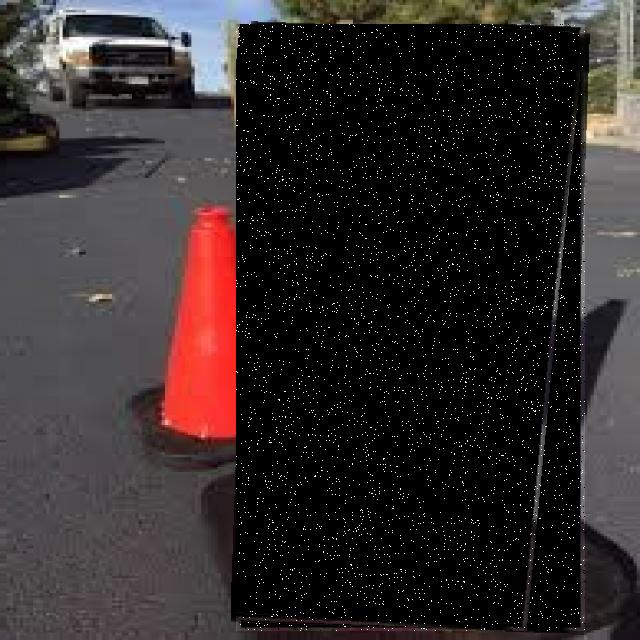Traffic-cone: (236, 24, 585, 631)
